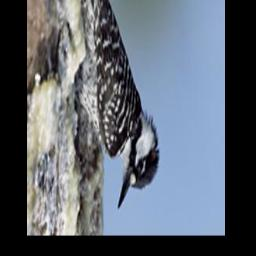Woodpecker: (52, 0, 160, 219)
